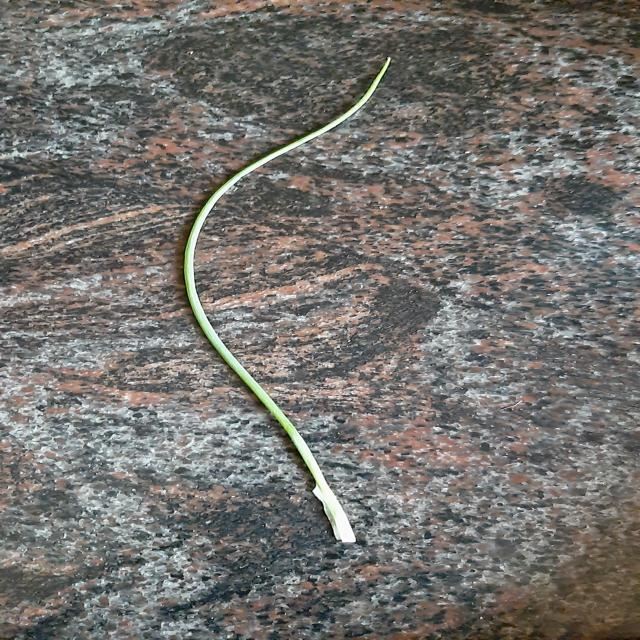onion: (184, 58, 390, 542)
